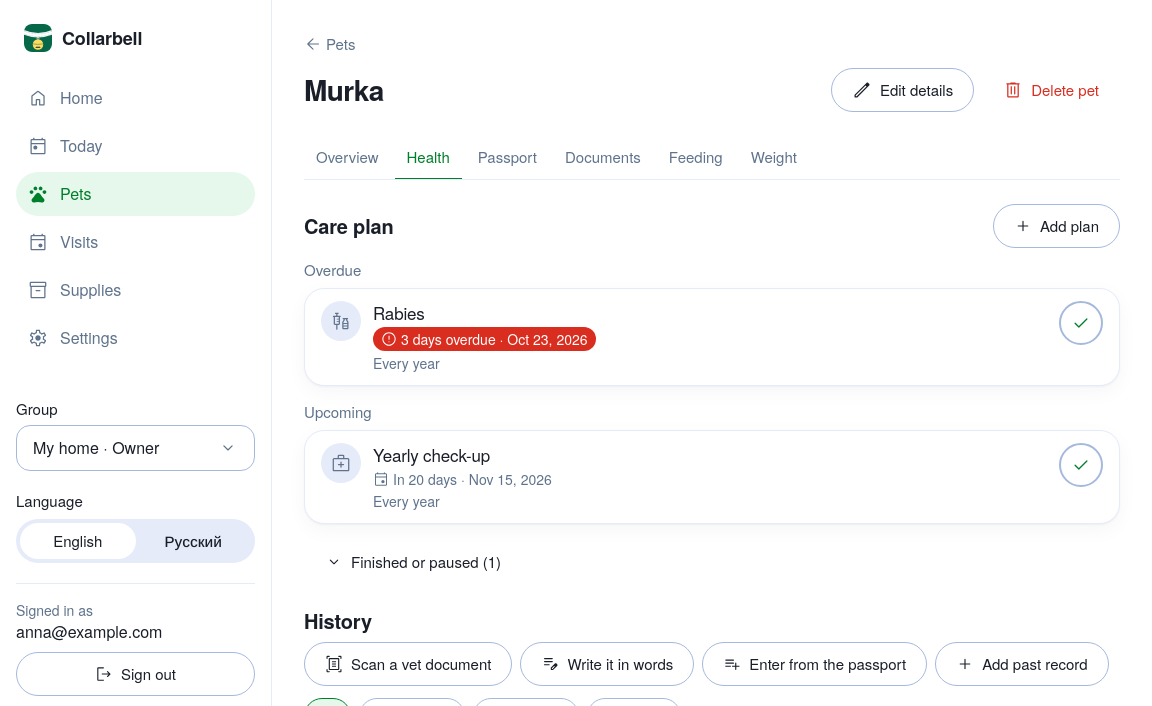
Scenario: a note written in words › is offered on the Health tab with the vet document scan, when AI is set up, to those who change things
Click the link "Write it in words".
click(607, 664)  # box [520,642,694,686]
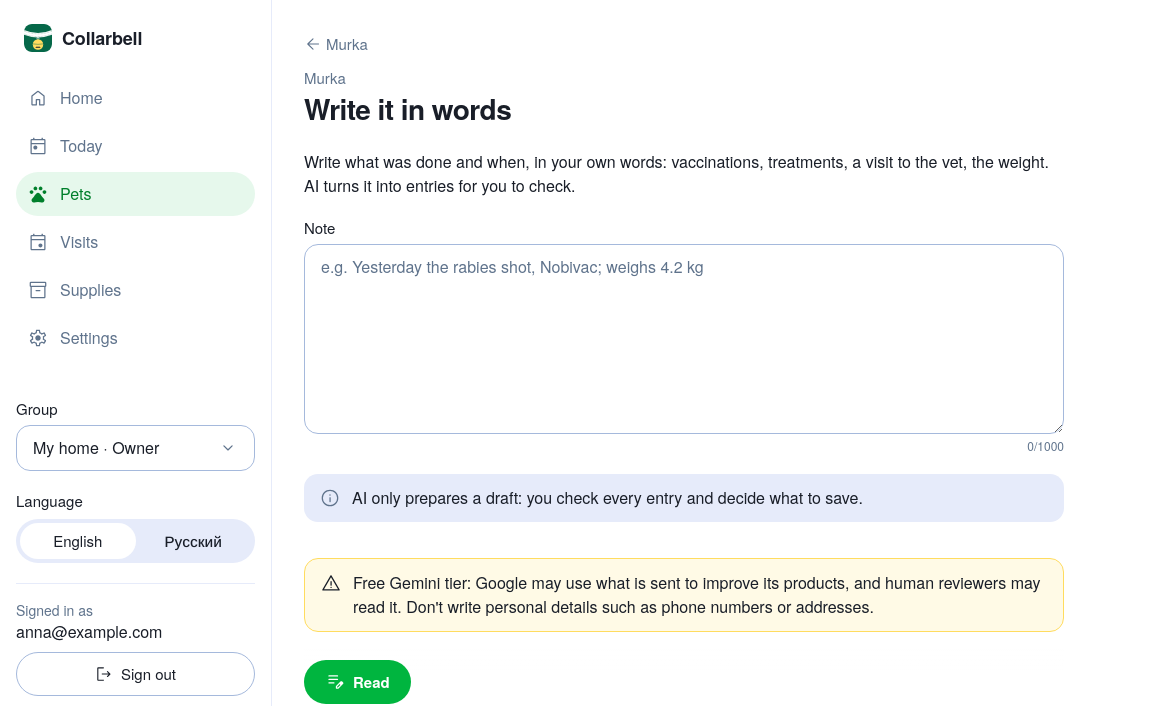
expect the heading "Write it in words" is shown: met, box [304,92,511,126]
expect the text "AI only prepares a draft: you check every entry and decide what to save." is shown: met, box [352,486,863,510]
